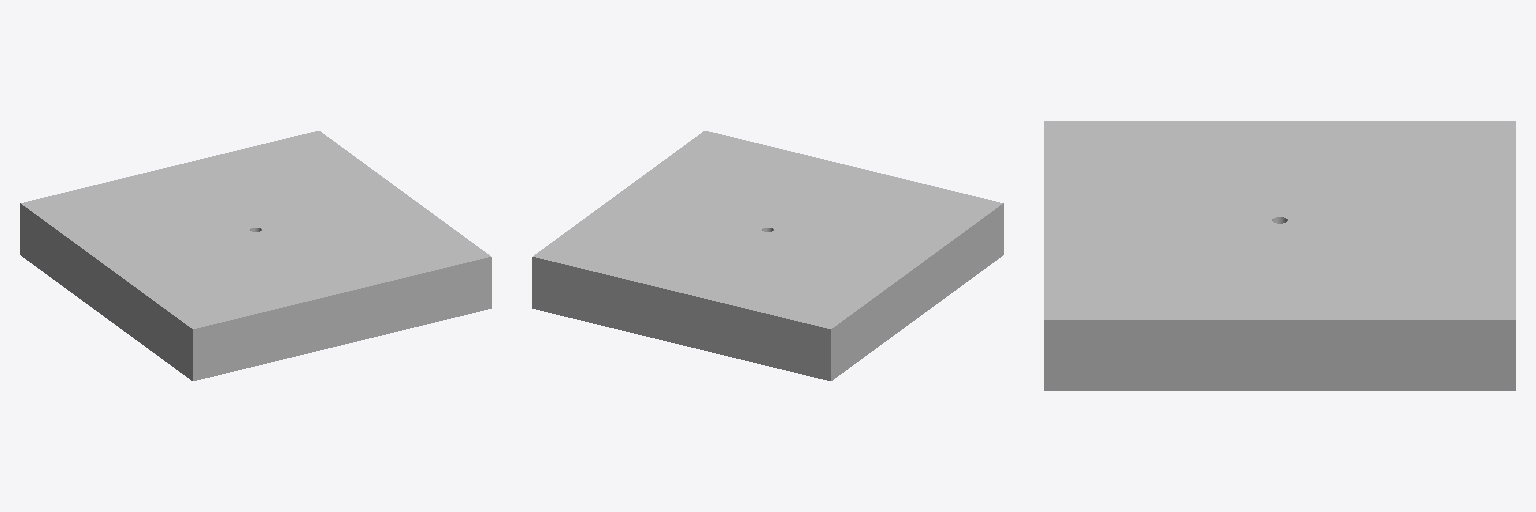
robot.urdf — circle_10mm.urdf:
<?xml version="0.0" ?>
<robot name="circle_10mm.urdf">
  <link name="base">
    <inertial>
      <origin rpy="0 0 0" xyz="0 0 0"/>
      <mass value="0.0"/>
      <inertia ixx="0.03" ixy="0" ixz="0" iyy="0.03" iyz="0" izz="0.005"/>
    </inertial>
  </link>

  <joint name="empty" type="fixed">
    <parent link="base"/>
    <child link="box"/>
  </joint>

  <link name="box">
    <inertial>
      <origin rpy="3.14159 0 0" xyz="0 0 0.0"/>
      <mass value="0"/>
      <inertia ixx="0.001" ixy="0" ixz="0" iyy="0.001" iyz="0" izz="0.001"/>
    </inertial>
     
     <visual>
      <origin rpy="1.57075 0 0" xyz="0 0 0"/>
      <geometry>
        <mesh filename="stl/visual/circle_10mm.STL" scale="0.002 0.002 0.002"/>
      </geometry>
       <material name="white">
        <color rgba="0.8 0.8 0.8 1"/>
      </material>
    </visual>
    
    <collision concave="yes">
      <origin rpy="1.57075 0 0" xyz="0 0 0"/>
      <geometry>
           <mesh filename="stl/collision/circle_10mm.STL" scale="0.002 0.002 0.002"/>
      </geometry>
    </collision>
  </link>
</robot>

--- Render facts (derived) ---
The picture shows the robot from 3 angles, left to right: view 1: azimuth 30°, elevation 25°; view 2: azimuth 150°, elevation 25°; view 3: azimuth 270°, elevation 25°; orthographic projection.
Model circle_10mm.urdf with 2 links and 1 joints (1 fixed), rooted at base, posed all joints at 0.
Visible links, largest first — view 1: box; view 2: box; view 3: box.
Link boxes in pixels (x1,y1,x2,y2): box: (20,131,491,380); box: (532,131,1003,380); box: (1044,121,1515,390).
Size in the robot's own frame: 0.6 by 0.6 by 0.1 metres.
Meshes: 1 distinct files referenced, 1 mesh visuals loaded (1 binary STL).